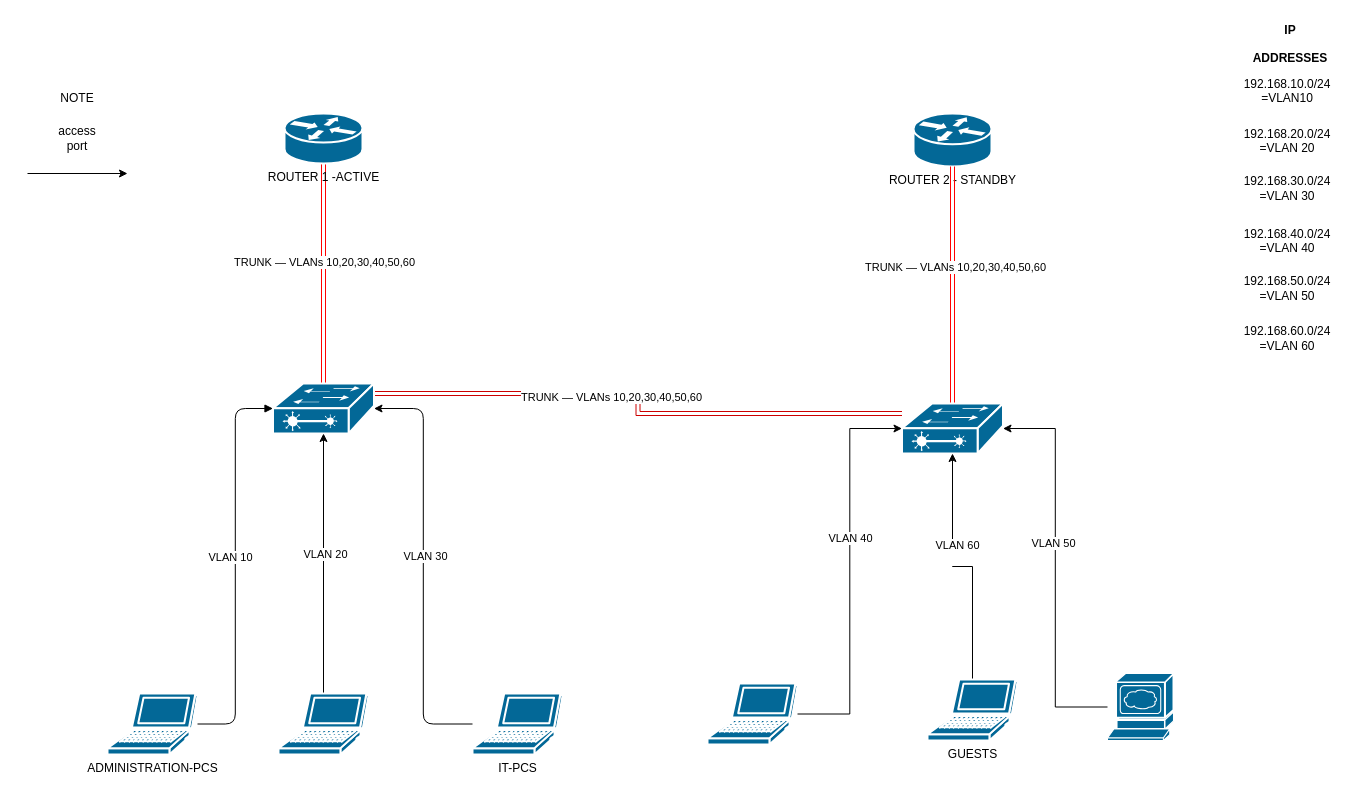
Image size: 1348x793. Some labels were removed from this diagram. The shapes that lost their labels are listed below. From the top down, each one's centre as x and y in pixels, then its label:
At point 323,723: "FINANCE PCS".
At point 752,713: "MANAGEMENT -PCS".
At point 1140,706: "WEB-SERVER,DNS,DHCP".
